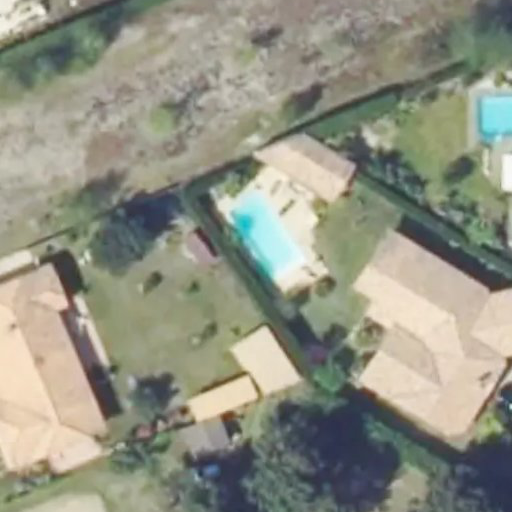pool: (229, 190, 308, 290), (477, 95, 512, 139)
